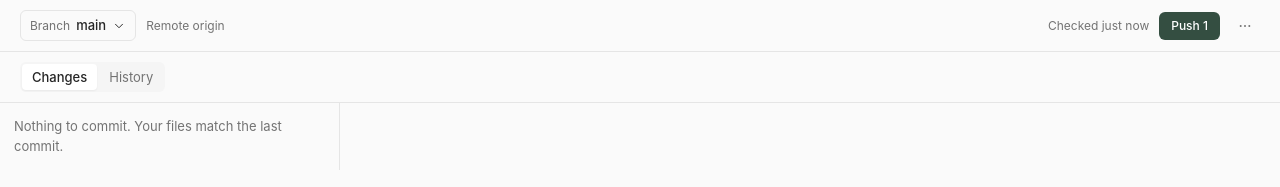
it: offers sync for a remote whose address shows no host
expect the button "Push 1" is shown: met, box [1159, 12, 1220, 40]
expect the text "Remote origin" is shown: met, box [146, 16, 225, 34]
Click the button named "More version control actions" at coordinates (1245, 26), box [1230, 10, 1260, 40]
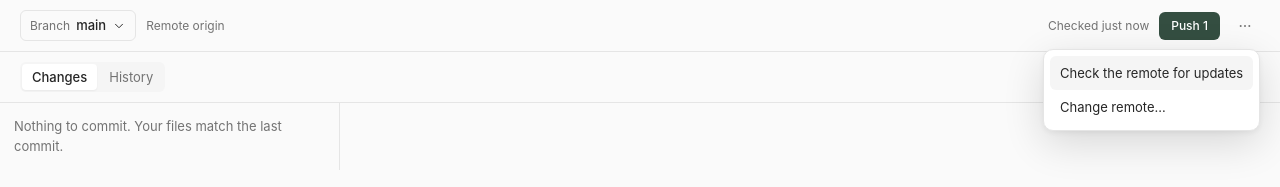
expect the menu item "Check the remote for updates" is shown: met, box [1050, 56, 1253, 90]
expect the menu item "Change remote…" is shown: met, box [1050, 90, 1253, 124]
